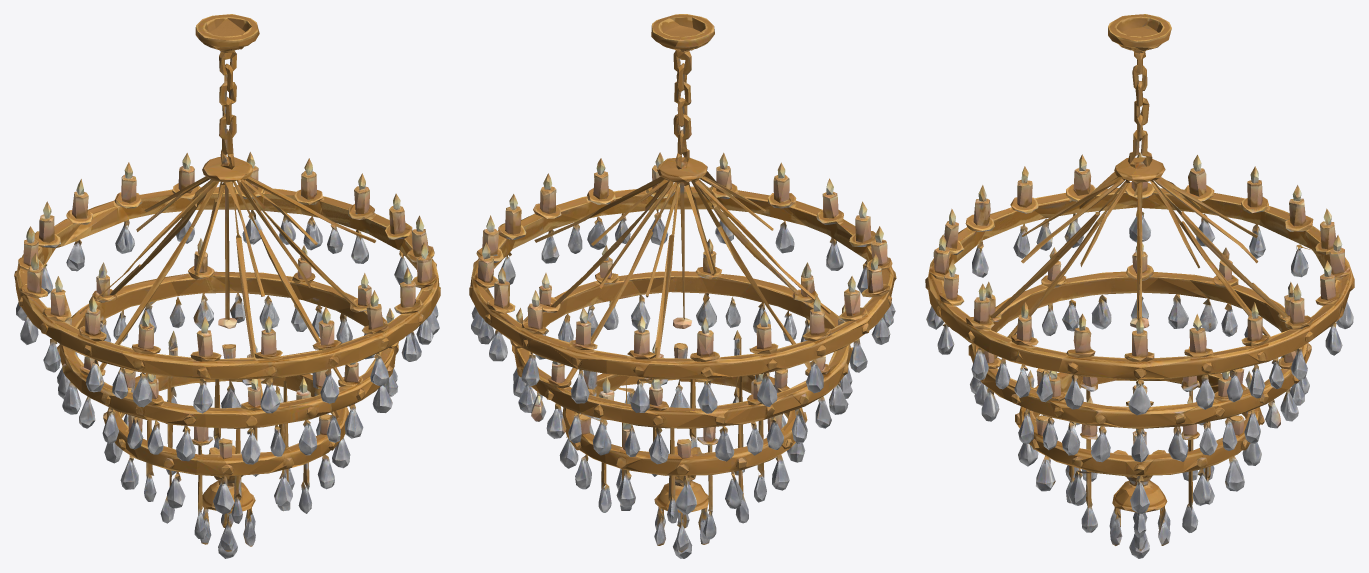
The model's file is hall_chandelier.fbx.
3 views of the same model, side by side, from view 1: azimuth 30°, elevation 25°; view 2: azimuth 150°, elevation 25°; view 3: azimuth 270°, elevation 25° (orthographic).
Parts seen in each view (by area): view 1: hall_chandelier; view 2: hall_chandelier; view 3: hall_chandelier.
Boxes of the visible parts, <box> form: hall_chandelier: <box>14,14,440,558</box>; hall_chandelier: <box>469,14,896,558</box>; hall_chandelier: <box>925,14,1354,558</box>.
Size of the model in its own units: 1.76 by 2.4 by 1.76.
